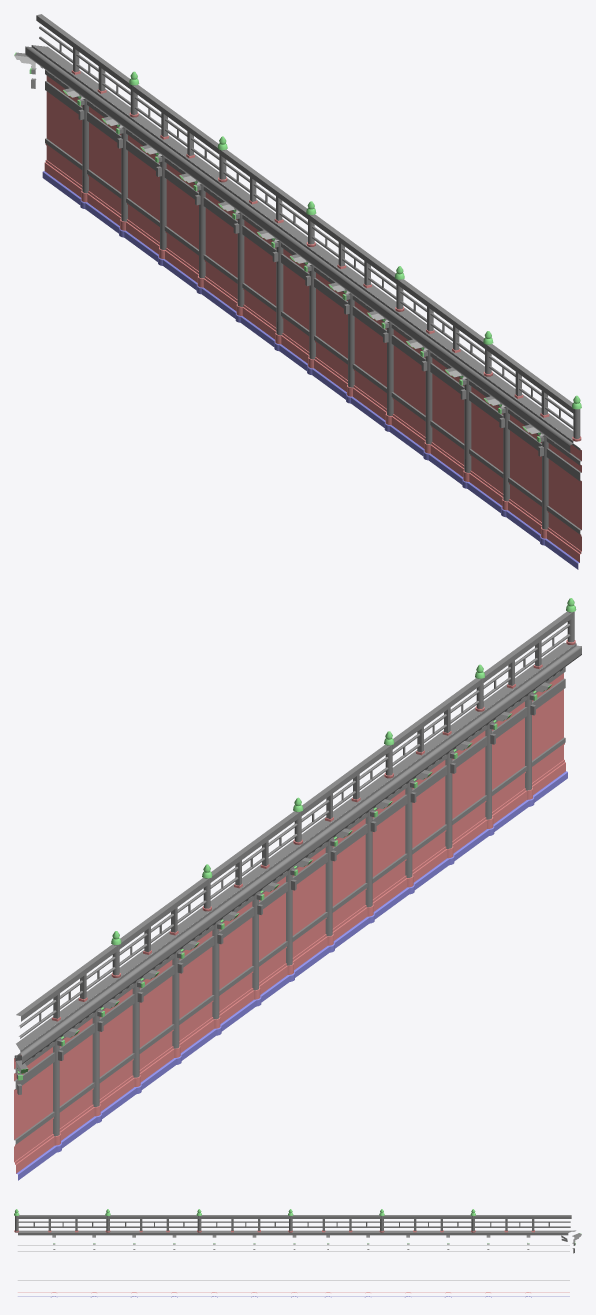
Rendered from SM_ENV_KNVLLG03_Bridge_PlatformA_2.gltf.
3 renders of one model, top to bottom at view 1: azimuth 30°, elevation 25°; view 2: azimuth 150°, elevation 25°; view 3: azimuth 270°, elevation 25°, orthographic. The views are drawn at different scales.
Visible parts, largest first — view 1: SM_ENV_KNVLLG03_Bridge_PlatformA_2; view 2: SM_ENV_KNVLLG03_Bridge_PlatformA_2; view 3: SM_ENV_KNVLLG03_Bridge_PlatformA_2.
Boxes of the visible parts, x1,y1,x2,y2 form: SM_ENV_KNVLLG03_Bridge_PlatformA_2: (14,14,581,569); SM_ENV_KNVLLG03_Bridge_PlatformA_2: (14,598,581,1180); SM_ENV_KNVLLG03_Bridge_PlatformA_2: (14,1209,581,1297).
Bounding box in the file's own units: 1.13 × 8.12 × 46.33.
